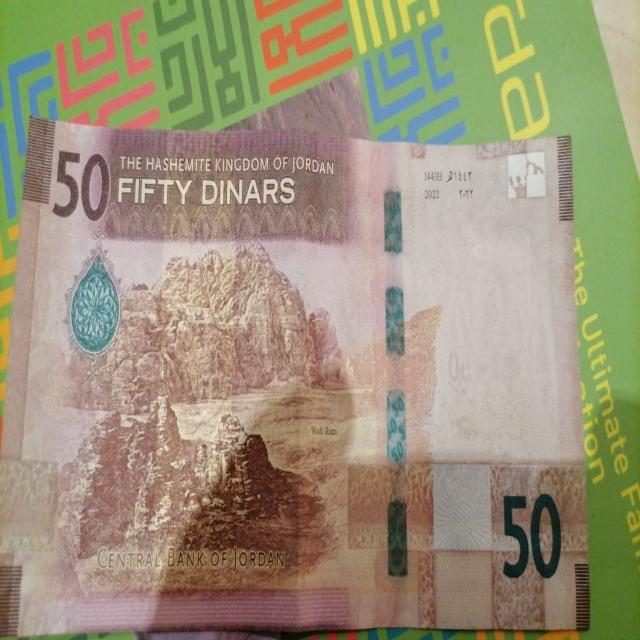50-dinar: (0, 120, 591, 639)
